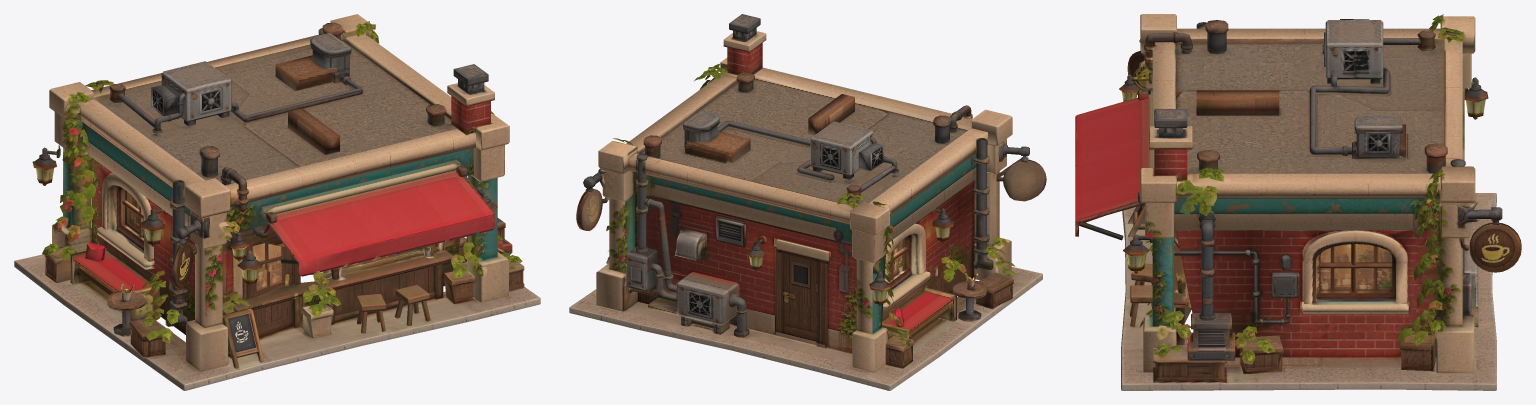
File: cafe.glb
The picture shows the model from 3 angles, left to right: view 1: azimuth 30°, elevation 25°; view 2: azimuth 150°, elevation 25°; view 3: azimuth 270°, elevation 25°; orthographic projection. The views are drawn at different scales.
Parts seen in each view (by area): view 1: tripo_node_8a8b2844-7a23-4e83-9cf3-a6444142cb0e; view 2: tripo_node_8a8b2844-7a23-4e83-9cf3-a6444142cb0e; view 3: tripo_node_8a8b2844-7a23-4e83-9cf3-a6444142cb0e.
Boxes of the visible parts, bbox=[...] form: tripo_node_8a8b2844-7a23-4e83-9cf3-a6444142cb0e: bbox=[14, 14, 540, 390]; tripo_node_8a8b2844-7a23-4e83-9cf3-a6444142cb0e: bbox=[569, 14, 1046, 390]; tripo_node_8a8b2844-7a23-4e83-9cf3-a6444142cb0e: bbox=[1075, 14, 1521, 390].
Bounding box in the file's own units: 0.9995 × 0.5933 × 0.9565.
Materials: 1 (1 with a texture image).
